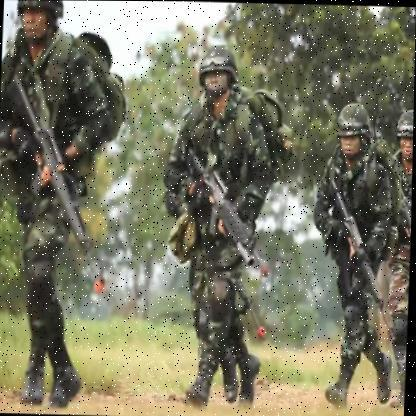police_car: (146, 18, 283, 408), (0, 1, 107, 415), (302, 104, 388, 394), (382, 107, 414, 408)
